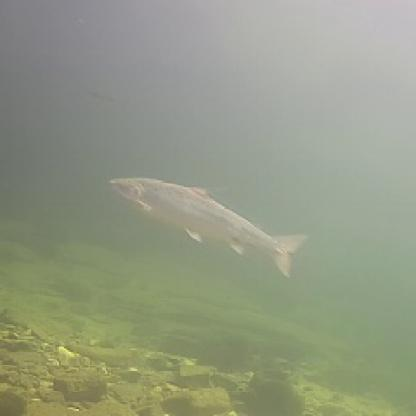salmon: (100, 166, 307, 274)
